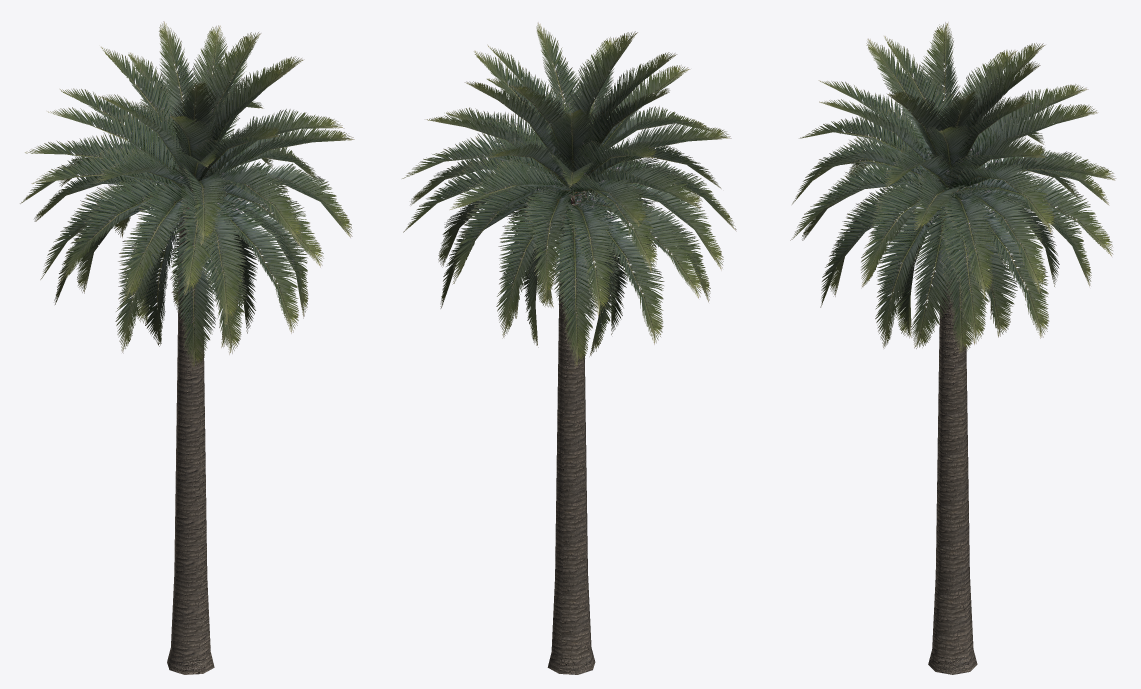
Rendered from palm_tree.glb.
3 renders of one model, left to right at view 1: azimuth 30°, elevation 25°; view 2: azimuth 150°, elevation 25°; view 3: azimuth 270°, elevation 25°, orthographic.
Visible parts, largest first — view 1: palm3; view 2: palm3; view 3: palm3.
Part boxes in pixels (box(x1,y1,x2,y2)): palm3: box(20, 21, 354, 674); palm3: box(402, 22, 736, 674); palm3: box(790, 22, 1116, 674).
Bounding box in the file's own units: 9.09 × 17.78 × 9.03.
Materials: 1 (1 with a texture image).
